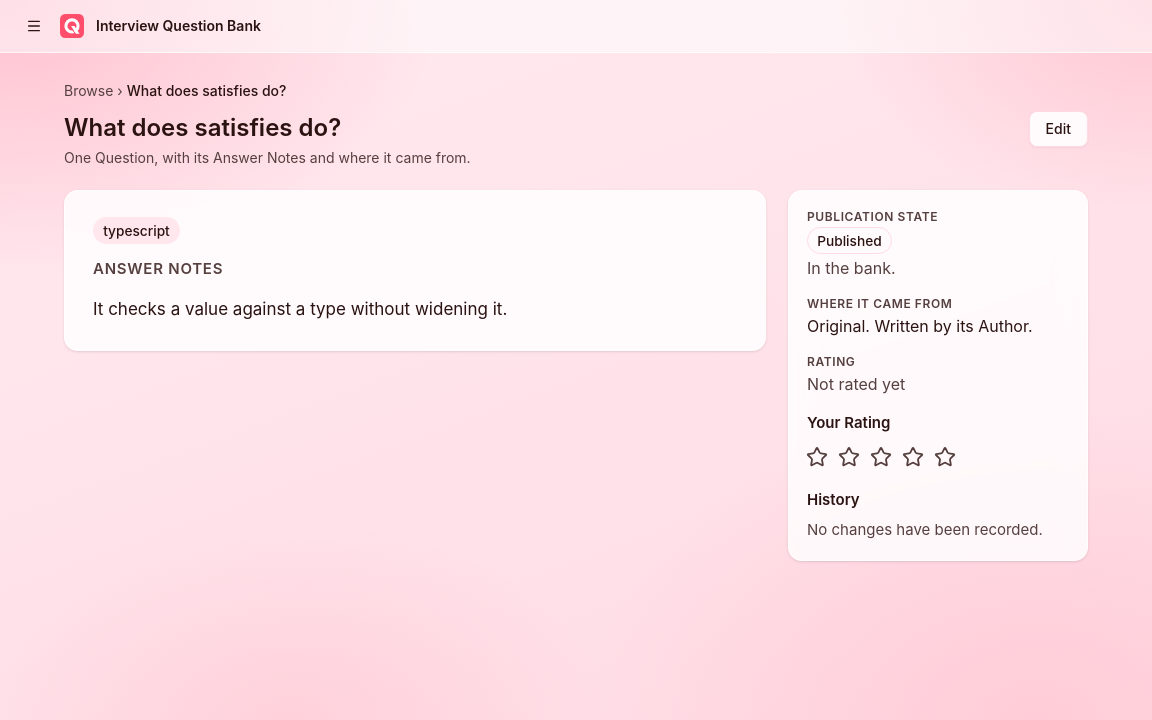
Scenario: editing a Question › sends only the Tags when only the Tags changed
Click the link "Edit": (1058, 129) [1029,111,1088,147]
(page scrolled)
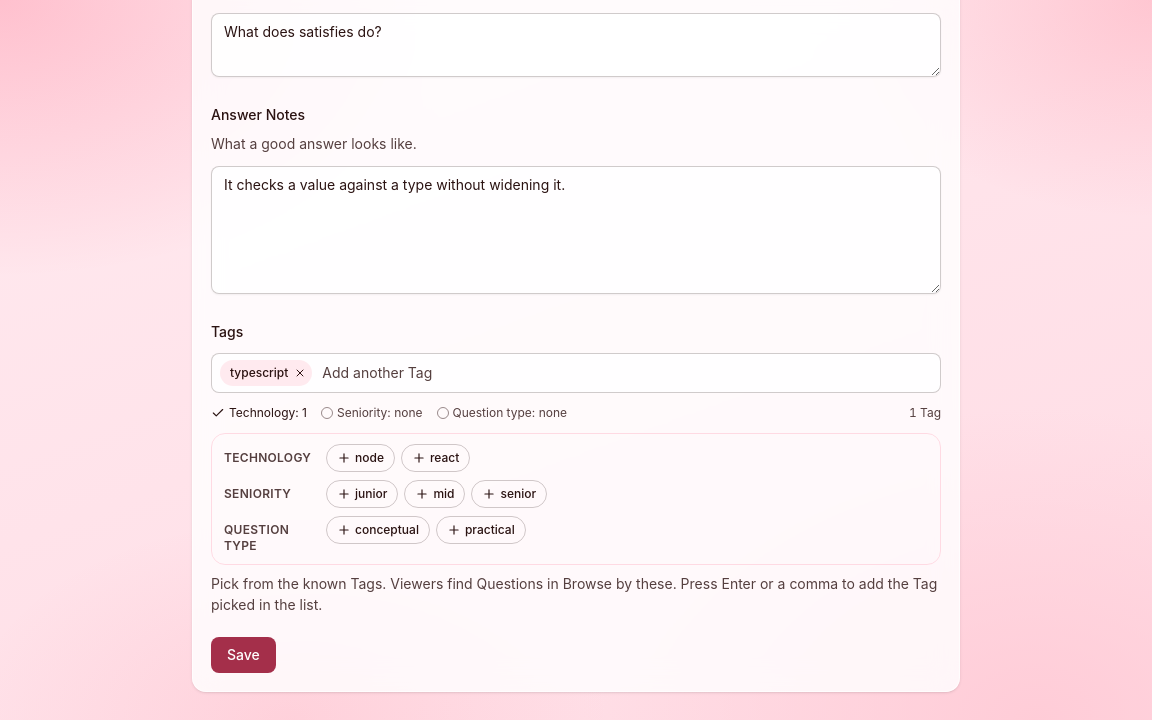
Click the button with aria-label "Add senior": (509, 494) [472,480,547,508]
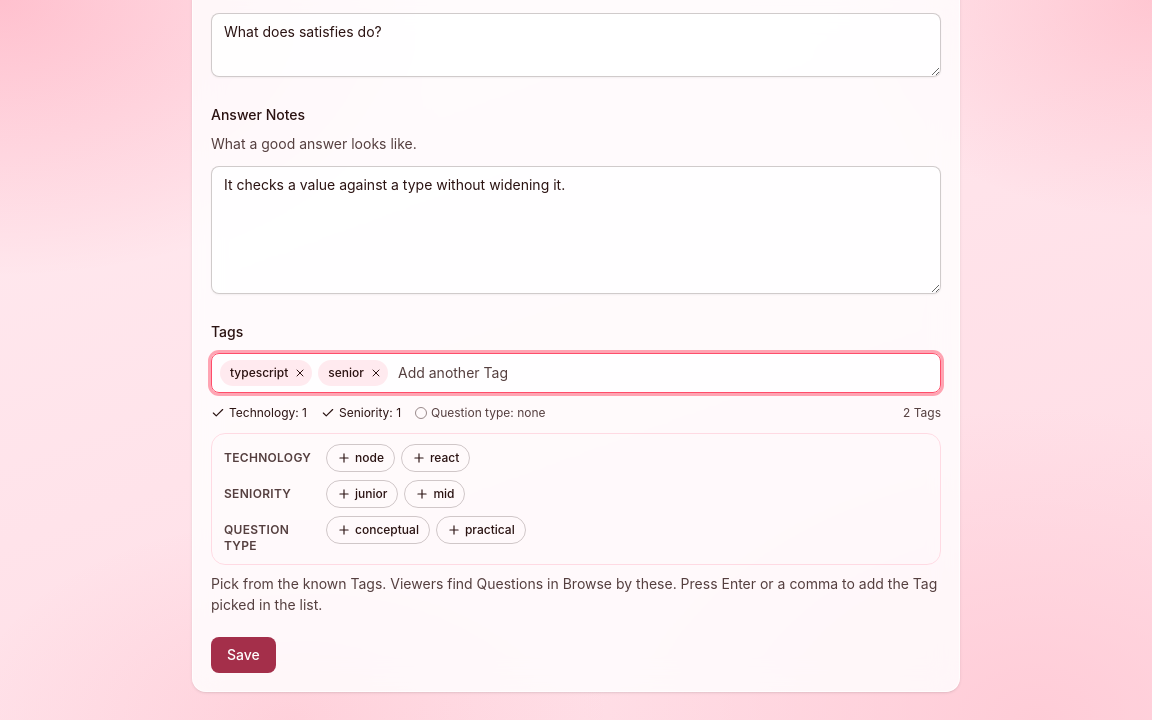
Click the button "Save": (243, 655) [211,637,276,673]
(page scrolled)
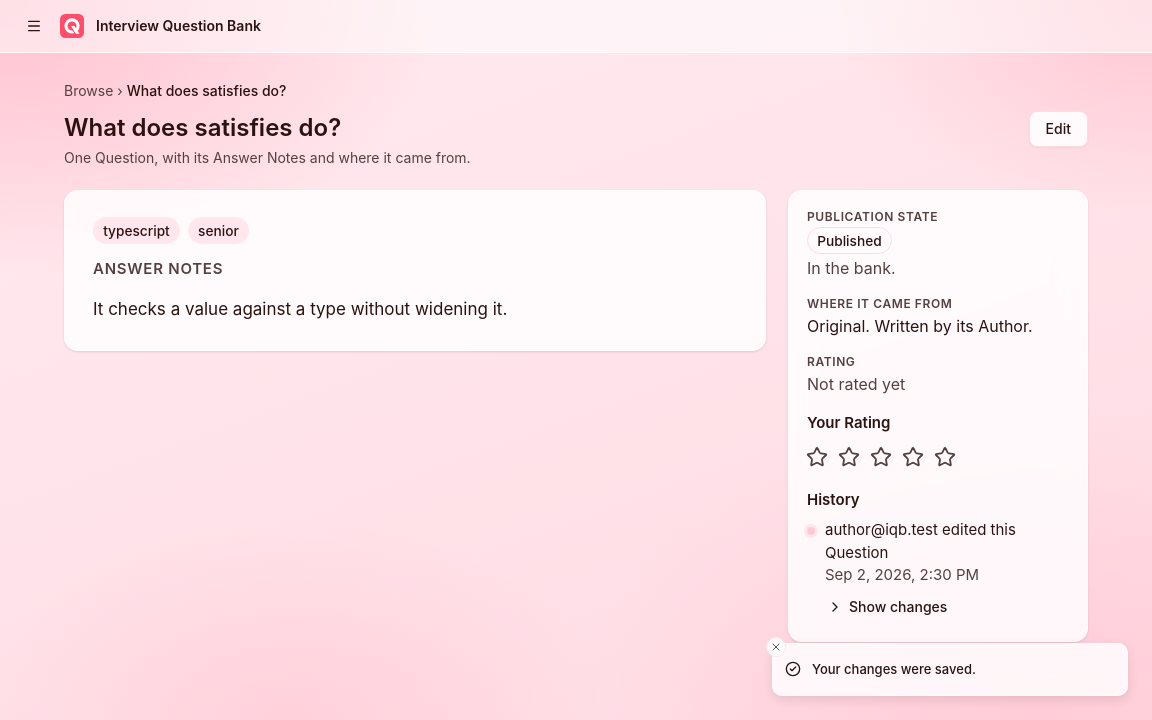
Check: the heading "What does satisfies do?" is shown, box [64,113,341,142]
